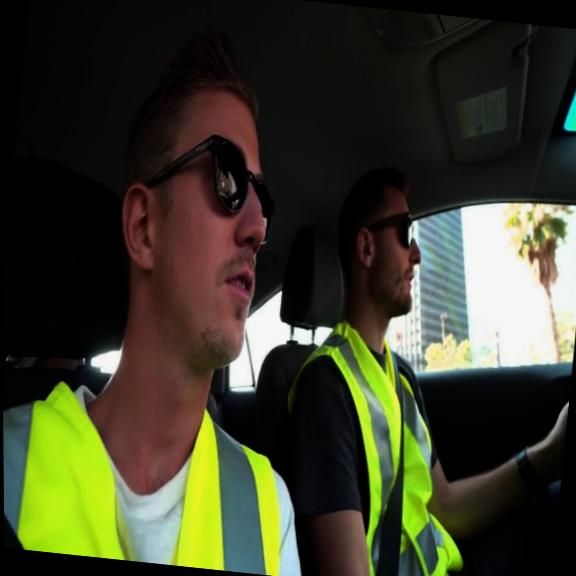safety_vest: (263, 312, 486, 576), (3, 375, 295, 576)
